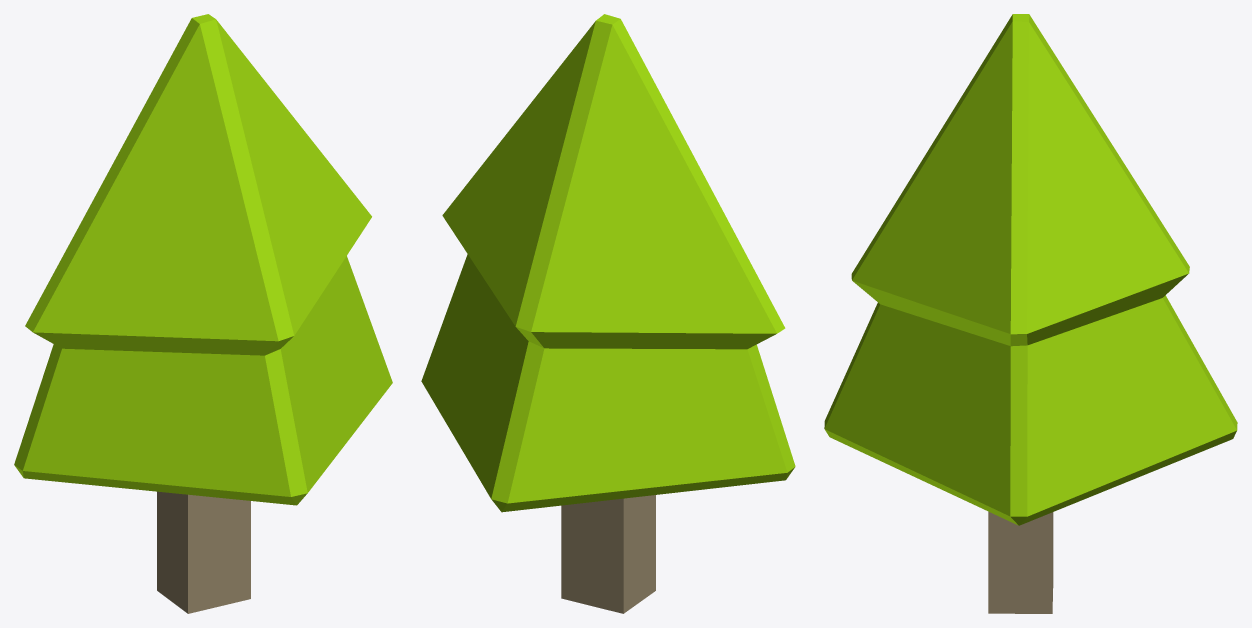
Rendered from pine_t_02.fbx.
3 renders of one model, left to right at view 1: azimuth 30°, elevation 25°; view 2: azimuth 150°, elevation 25°; view 3: azimuth 270°, elevation 25°, orthographic.
Visible parts, largest first — view 1: pine_t_02; view 2: pine_t_02; view 3: pine_t_02.
Part boxes in pixels (x1,y1,x2,y2): pine_t_02: [14, 14, 392, 613]; pine_t_02: [421, 14, 795, 613]; pine_t_02: [824, 14, 1237, 613].
Size of the model in its own units: 450 by 672 by 433.
